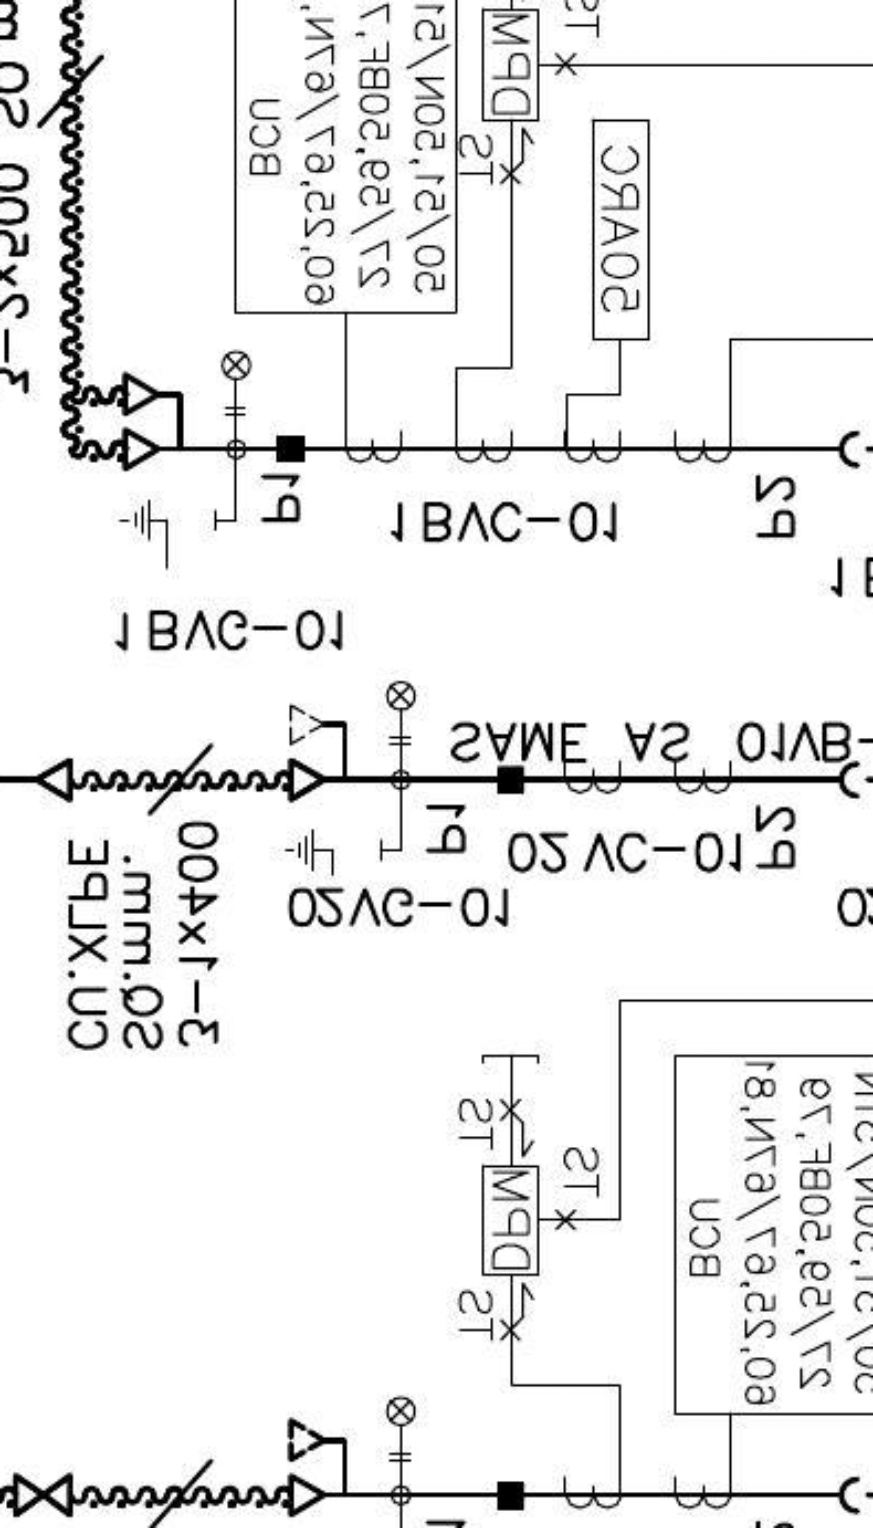22_gs: (120, 496, 220, 571), (284, 826, 385, 880)
22_ll: (384, 1395, 418, 1464), (219, 348, 253, 418), (384, 679, 418, 747)
DPM: (478, 7, 541, 125), (478, 1162, 541, 1279)
terminator_double: (121, 369, 186, 473)
terminator_single: (35, 755, 76, 805)
terminator_splicing_kits: (13, 1472, 74, 1519)
terminator_w_future: (285, 1416, 350, 1520), (285, 700, 350, 804)
